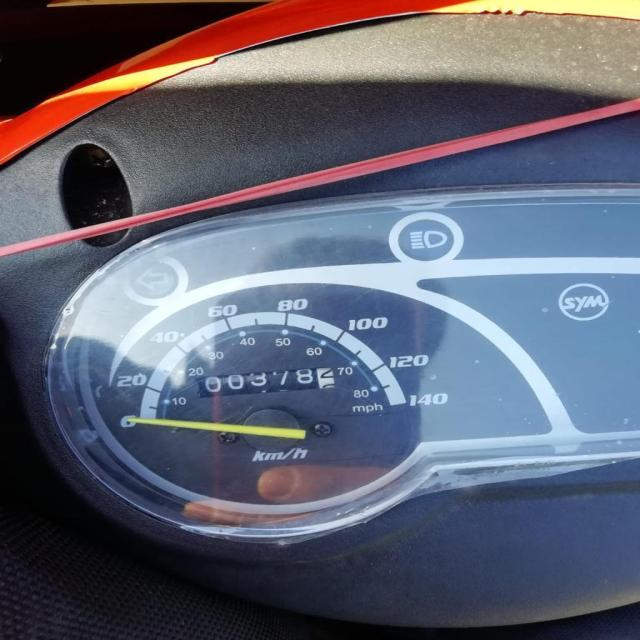odometer: (194, 366, 336, 400)
